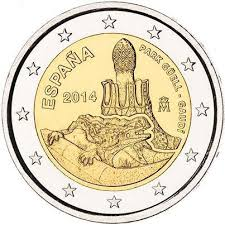eur002: (1, 2, 224, 225)
